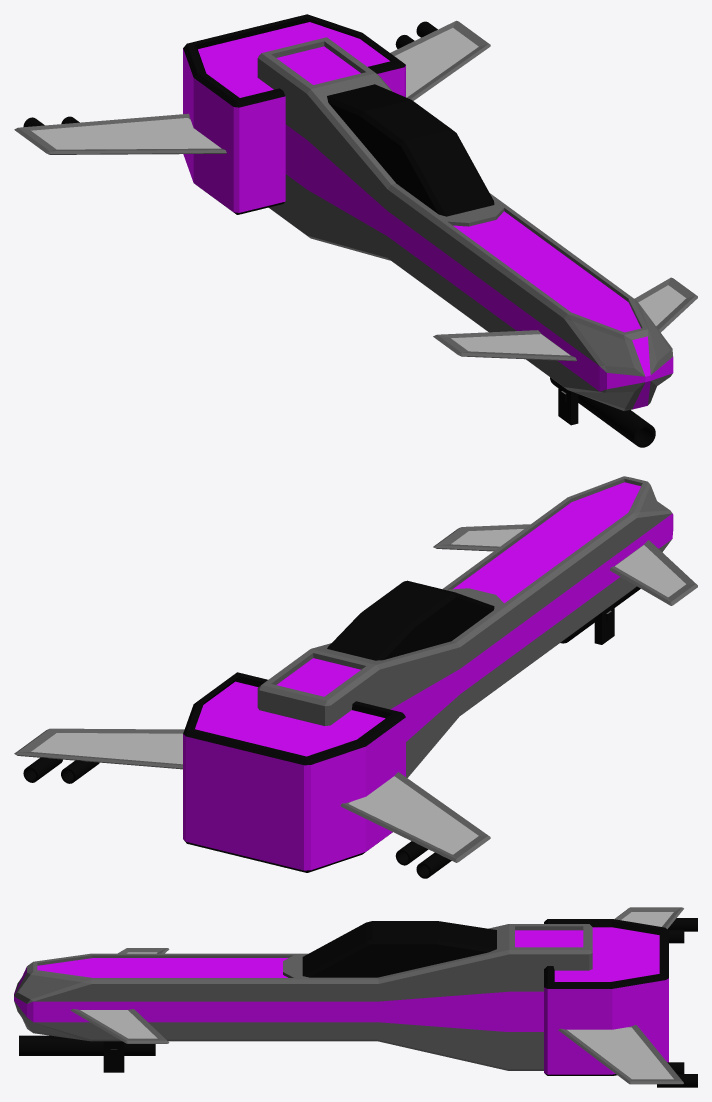
File: GatlingShip_Color.fbx
3 renders of one model, top to bottom at view 1: azimuth 30°, elevation 25°; view 2: azimuth 150°, elevation 25°; view 3: azimuth 270°, elevation 25°, orthographic. The views are drawn at different scales.
Visible parts, largest first — view 1: Cube; view 2: Cube; view 3: Cube.
Boxes of the visible parts, x1,y1,x2,y2 form: Cube: (14, 14, 697, 447); Cube: (14, 476, 697, 878); Cube: (14, 907, 697, 1087).
Bounding box in the file's own units: 1222 × 431 × 2003.
